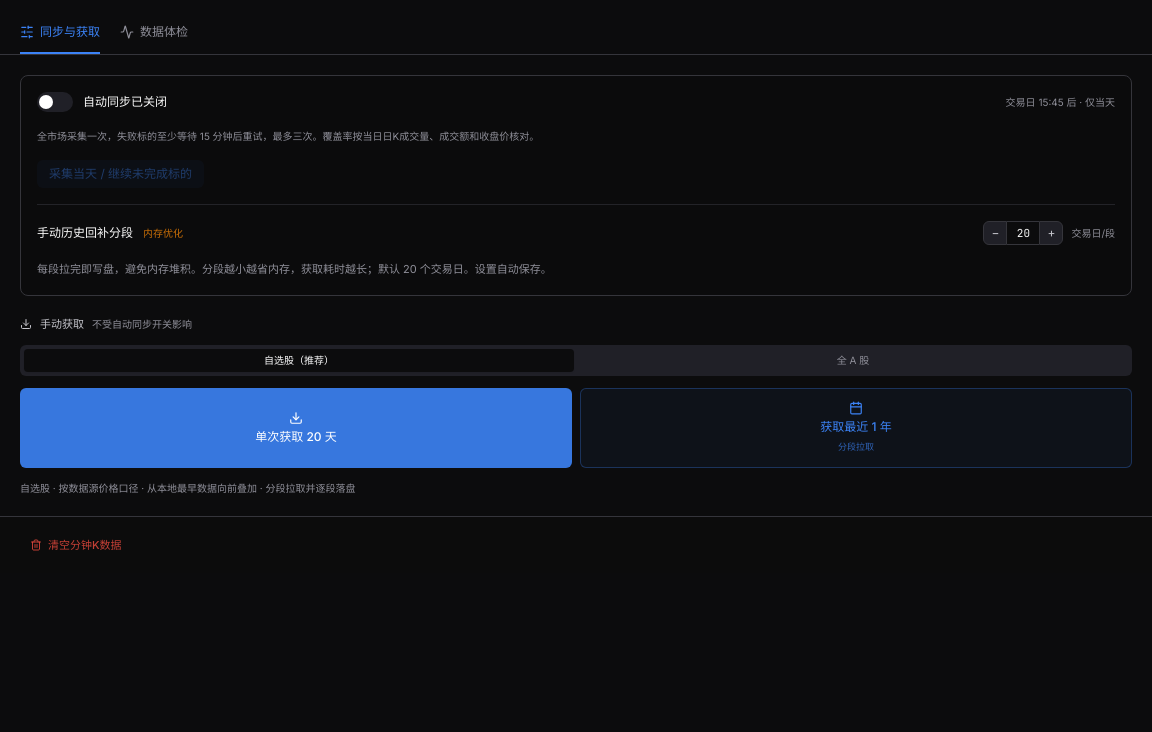
Test: 零成交残留单独说明, 不提供无效补拉按钮
Click the tab "数据体检".
click(154, 33)  # box [120,12,188,54]
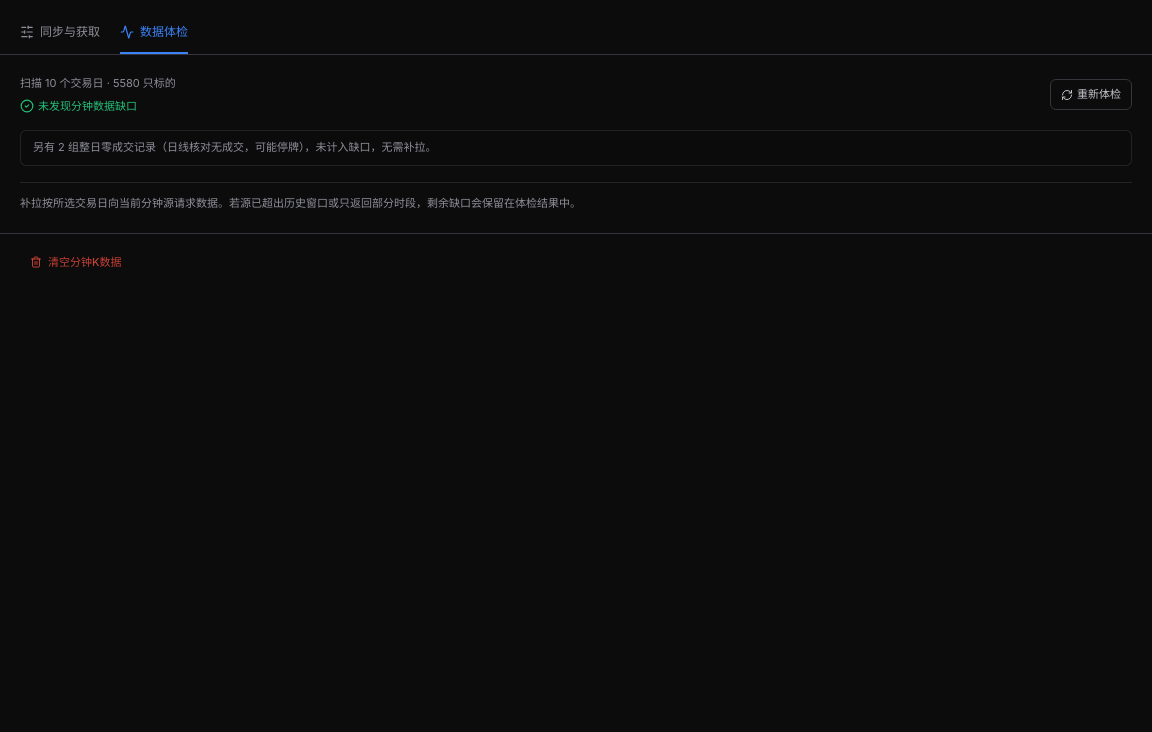
Now the text "未发现分钟数据缺口" is shown, box [20,98,137,113]
Now the text "另有 2 组整日零成交记录" is shown, box [20,130,1132,166]
